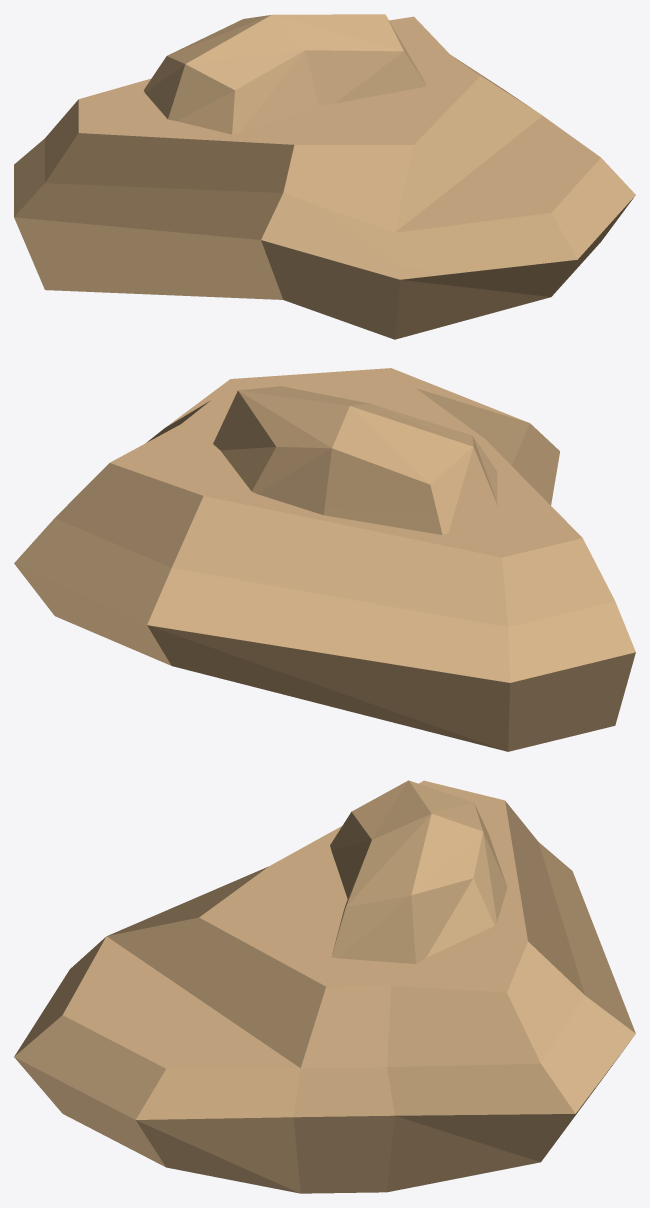
Rendered from 03 Big_stone.FBX.
3 renders of one model, top to bottom at view 1: azimuth 30°, elevation 25°; view 2: azimuth 150°, elevation 25°; view 3: azimuth 270°, elevation 25°, orthographic. The views are drawn at different scales.
Visible parts, largest first — view 1: Stone_lit_007, Stone_lit_029; view 2: Stone_lit_007, Stone_lit_029; view 3: Stone_lit_007, Stone_lit_029.
Part boxes in pixels (x1,y1,x2,y2): Stone_lit_007: (14, 16, 635, 339); Stone_lit_029: (143, 14, 426, 134); Stone_lit_007: (14, 368, 635, 751); Stone_lit_029: (213, 386, 498, 534); Stone_lit_007: (14, 780, 635, 1193); Stone_lit_029: (330, 780, 507, 963).
Size of the model in its own units: 4138 by 1773 by 3887.
